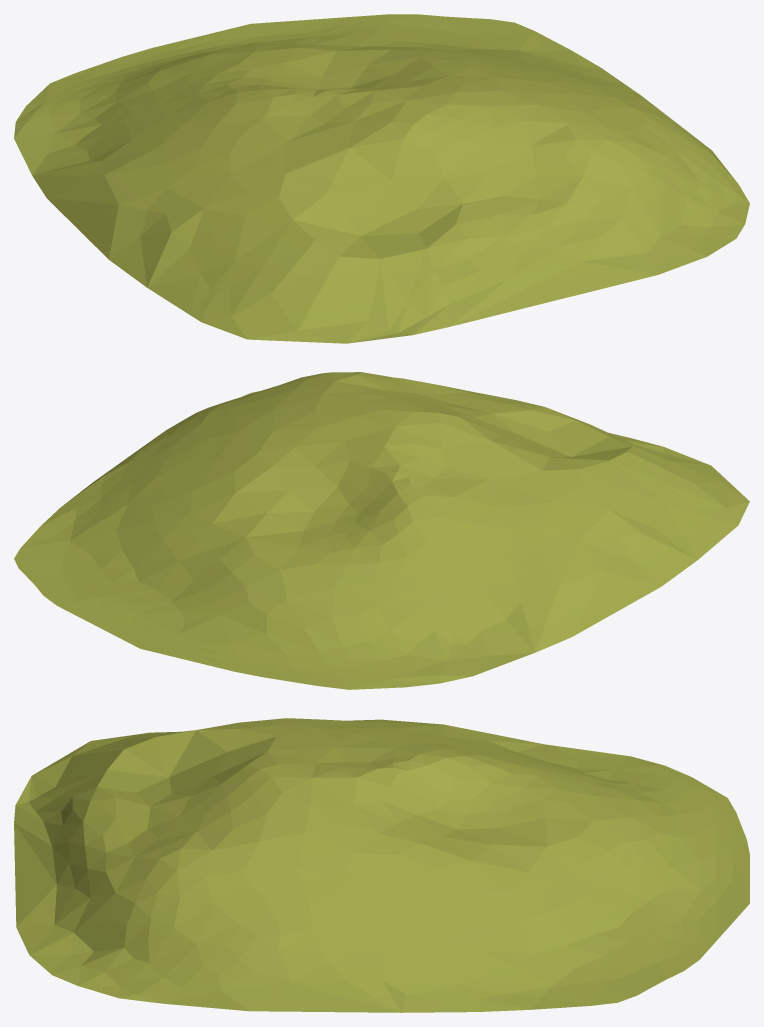
Rendered from Hill_17.glb.
3 views of the same model, one above another, from view 1: azimuth 30°, elevation 25°; view 2: azimuth 150°, elevation 25°; view 3: azimuth 270°, elevation 25° (orthographic). The views are drawn at different scales.
Parts seen in each view (by area): view 1: Hill_17; view 2: Hill_17; view 3: Hill_17.
Boxes of the visible parts, box(x1,y1,x2,y2) form: Hill_17: box(14, 14, 749, 343); Hill_17: box(14, 372, 749, 689); Hill_17: box(14, 718, 749, 1012).
Bounding box in the file's own units: 57.28 × 9.24 × 62.98.
1 material, 1 textured.
